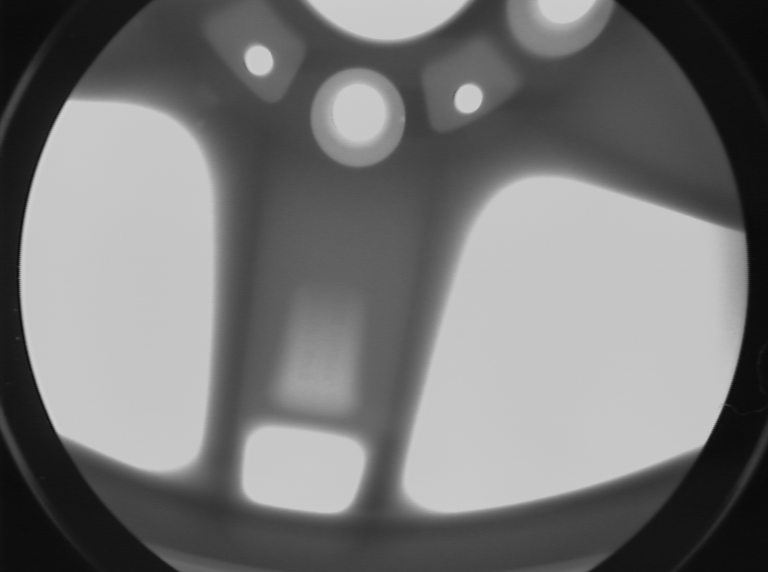defect: (191, 117, 210, 134)
